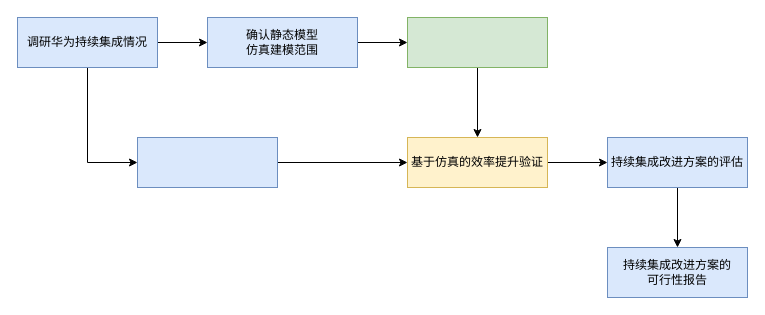
The diagram is 765 pixels wide and 315 high, and some of its shapes have lost their labels. Each missing label, with the box of its shape:
建立动态模型，含数据获取，模型验证: (406, 16, 548, 68)
调研持续集成改进方法: (136, 136, 278, 188)
